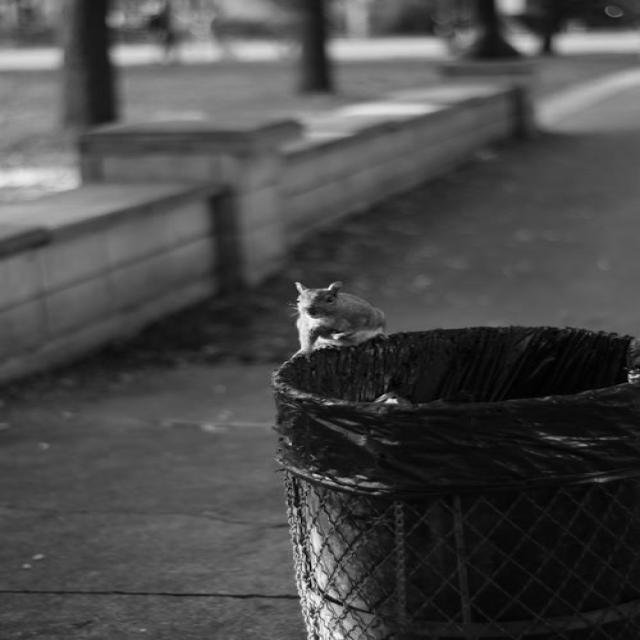plastic: (319, 407, 544, 491)
